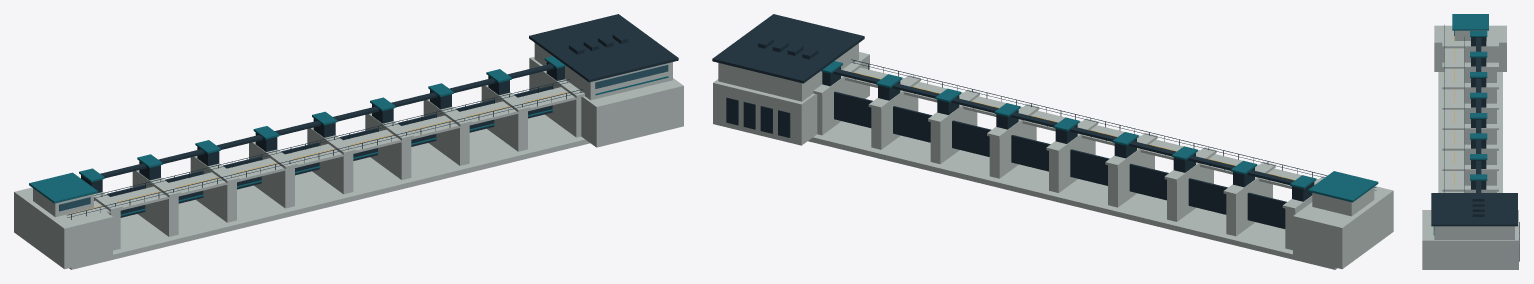
File: ModernWeir.obj
3 views of the same model, side by side, from view 1: azimuth 30°, elevation 25°; view 2: azimuth 150°, elevation 25°; view 3: azimuth 270°, elevation 25° (orthographic). The views are drawn at different scales.
Visible parts, largest first — view 1: Foundation, ServiceDeck, PowerhouseRoof, PowerhouseBase, Abutment, Powerhouse, Pier_4, Pier_1, Pier_2, Pier_5, CabinRoof, Pier_6 (+13 smaller); view 2: Foundation, PowerhouseRoof, Abutment, PowerhouseBase, ServiceDeck, Powerhouse, CabinRoof, Pier_5, Pier_7, Pier_6, Pier_2, Pier_3 (+22 smaller); view 3: PowerhouseBase, PowerhouseRoof, ServiceDeck, Foundation, Abutment, Powerhouse, CabinRoof, PierCap_0, PierCap_1, PierCap_2, PierCap_3, PierCap_5 (+41 smaller).
Boxes of the visible parts, x1,y1,x2,y2 form: Foundation: (69,114,589,269); ServiceDeck: (60,87,580,221); PowerhouseRoof: (529,14,678,82); PowerhouseBase: (529,56,683,147); Abutment: (14,187,112,269); Powerhouse: (534,43,672,100); Pier_4: (307,129,353,194); Pier_1: (132,171,178,236); Pier_2: (190,157,236,222); Pier_5: (365,115,411,179); CabinRoof: (29,172,97,203); Pier_6: (423,100,469,165); Foundation: (808,121,1337,269); PowerhouseRoof: (712,14,864,83); Abutment: (1293,186,1393,269); PowerhouseBase: (713,52,869,145); ServiceDeck: (845,67,1375,194); Powerhouse: (718,43,858,101); CabinRoof: (1308,171,1378,202); Pier_5: (989,122,1036,178); Pier_7: (871,93,918,149); Pier_6: (930,108,977,164); Pier_2: (1167,165,1213,221); Pier_3: (1108,151,1154,207); PowerhouseBase: (1422,210,1518,269); PowerhouseRoof: (1431,193,1517,226); ServiceDeck: (1444,29,1464,192); Foundation: (1438,72,1502,192); Abutment: (1434,25,1506,71); Powerhouse: (1434,226,1514,239); CabinRoof: (1452,14,1488,30); PierCap_0: (1442,42,1498,48); PierCap_1: (1442,62,1498,68); PierCap_2: (1442,83,1498,89); PierCap_3: (1442,103,1498,109); PierCap_5: (1442,144,1498,150).
Size of the model in its own units: 126 by 14.2 by 24.16.
